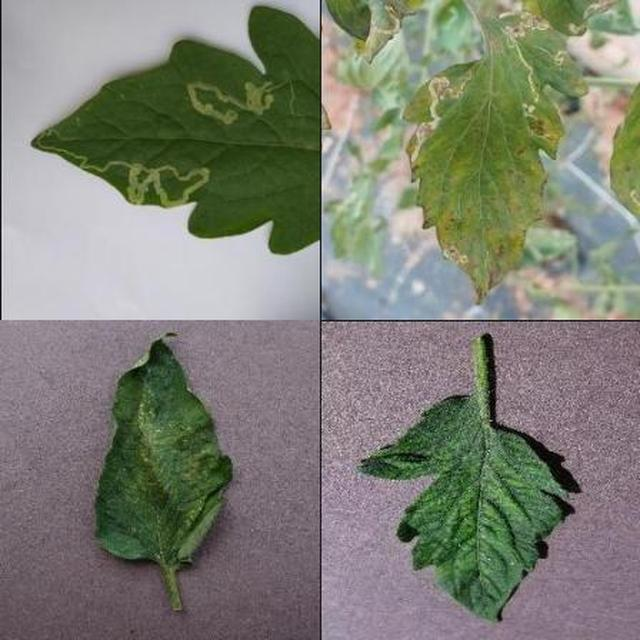Leaf Miner: (196, 186, 640, 640)
